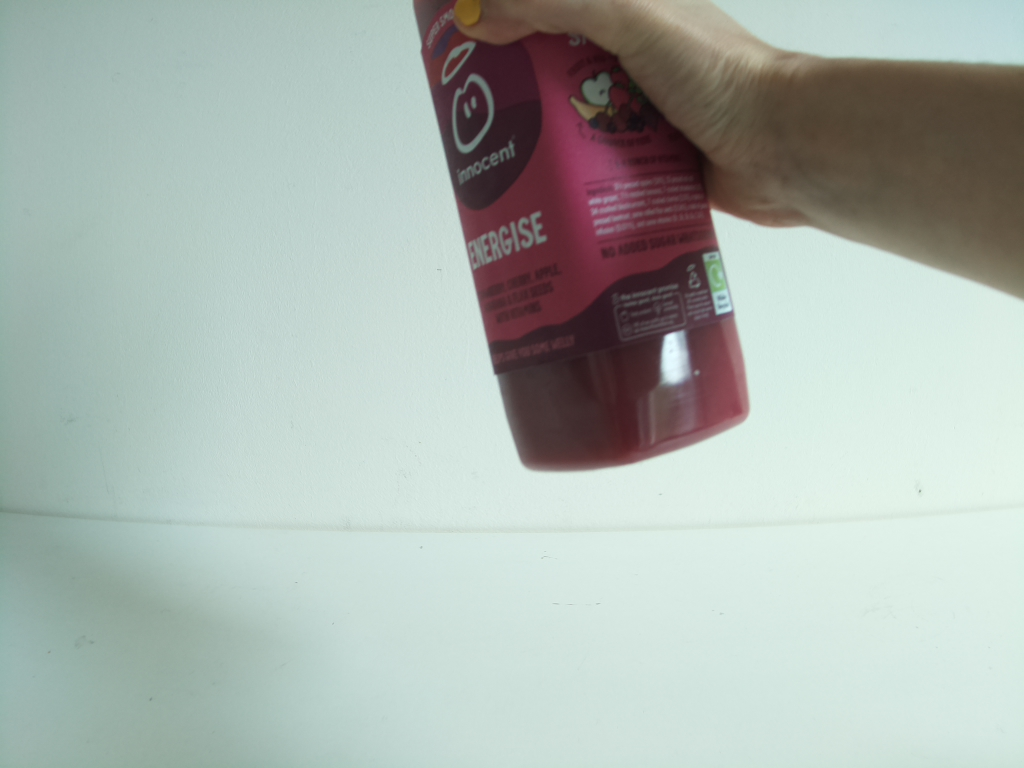juice: (412, 1, 756, 475)
